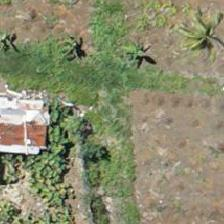coconut_tree: (160, 0, 223, 79)
